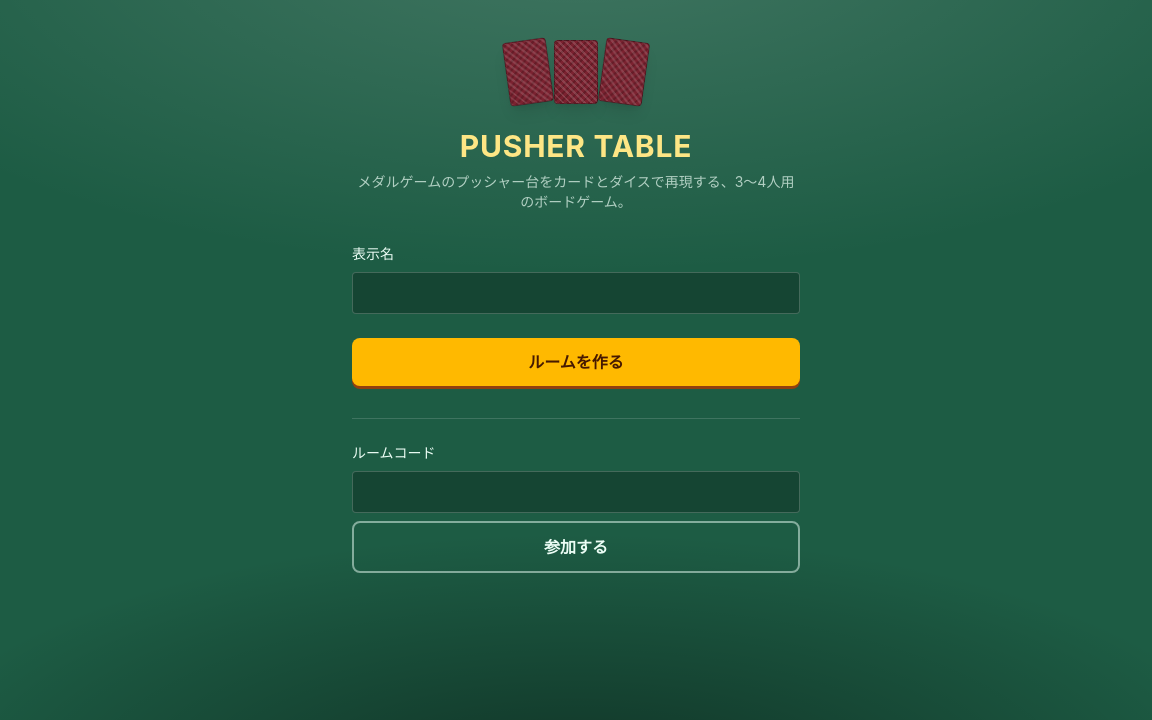
Scenario: トップ画面 › ルームコードを入れて参加できる
Step 1. Type "はると" into the field labelled "表示名" → [576, 293], box left=352, top=272, right=800, bottom=314
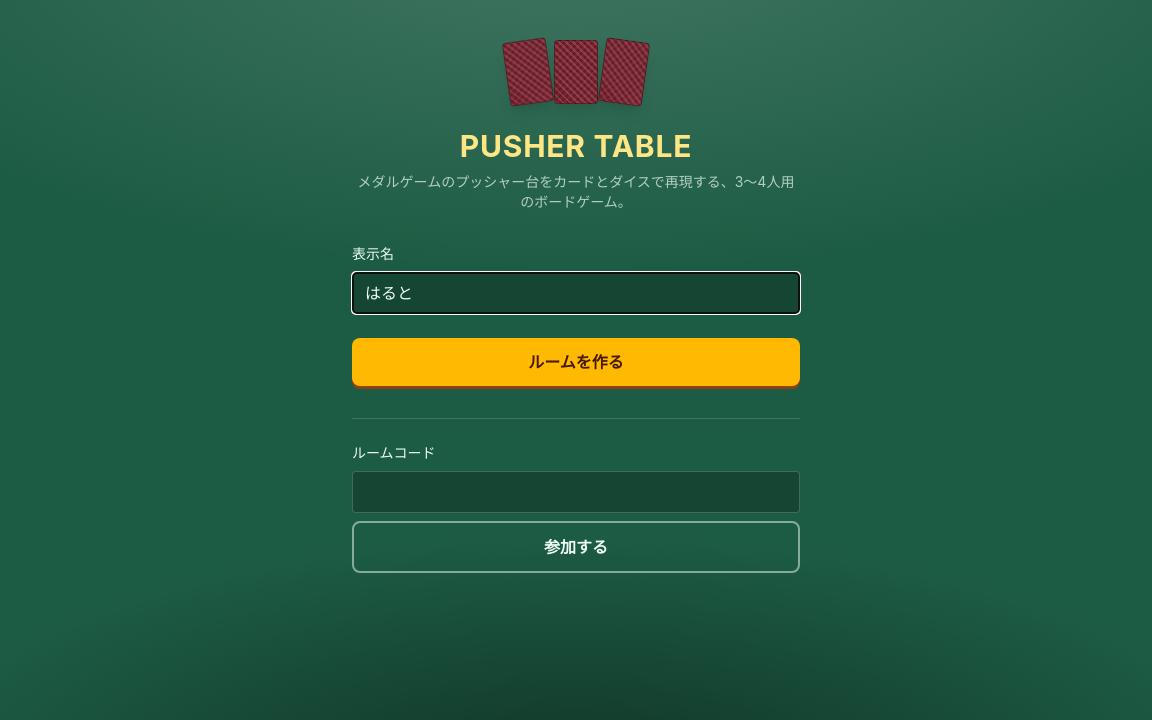
Step 2. Type "abcdef" into the field labelled "ルームコード" → [576, 492], box left=352, top=471, right=800, bottom=513
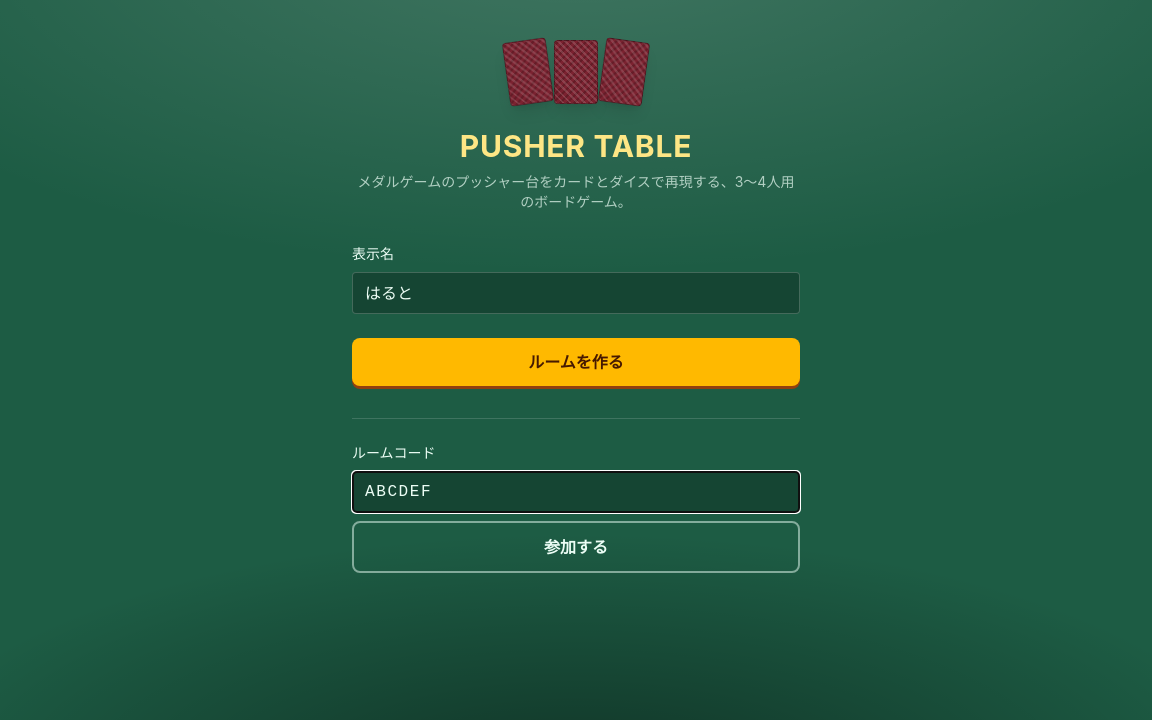
Step 3. Click the button "参加する" → [576, 547], box left=352, top=521, right=800, bottom=573
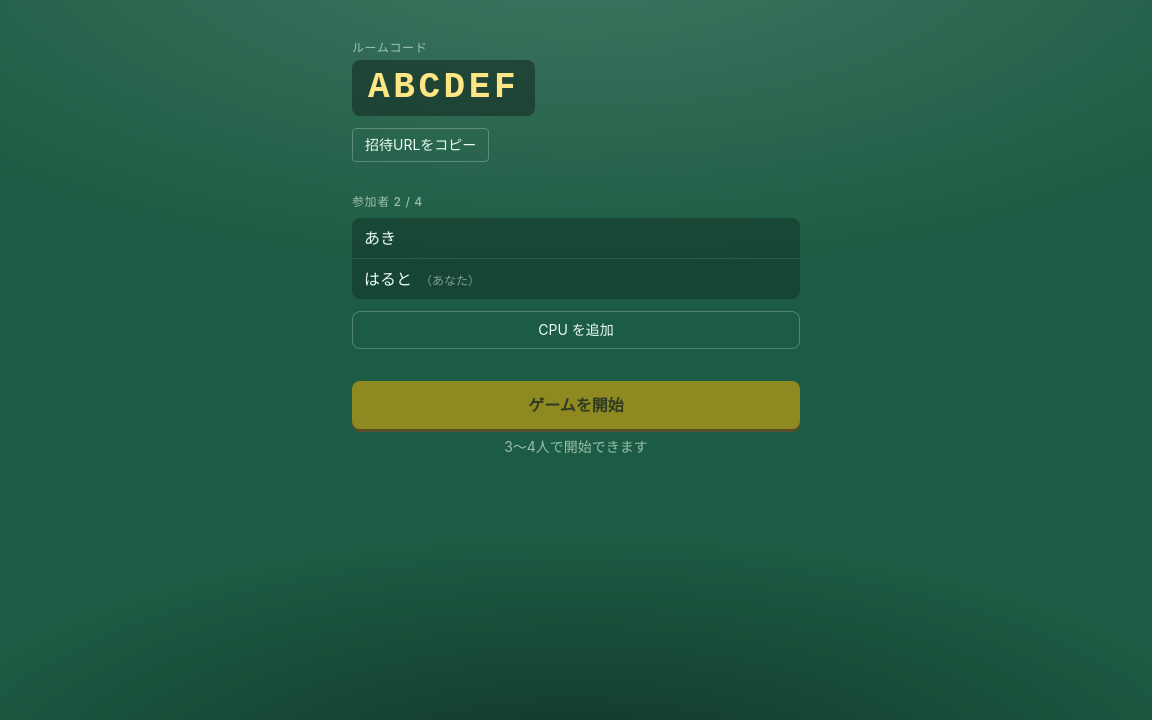
Result: the text "ABCDEF" is shown at left=352, top=60, right=535, bottom=116
Result: the text "はると" is shown at left=364, top=269, right=412, bottom=289
